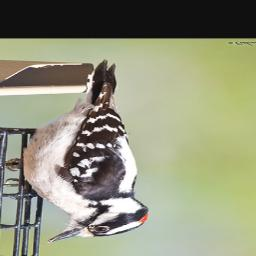Woodpecker: (4, 57, 153, 243)
